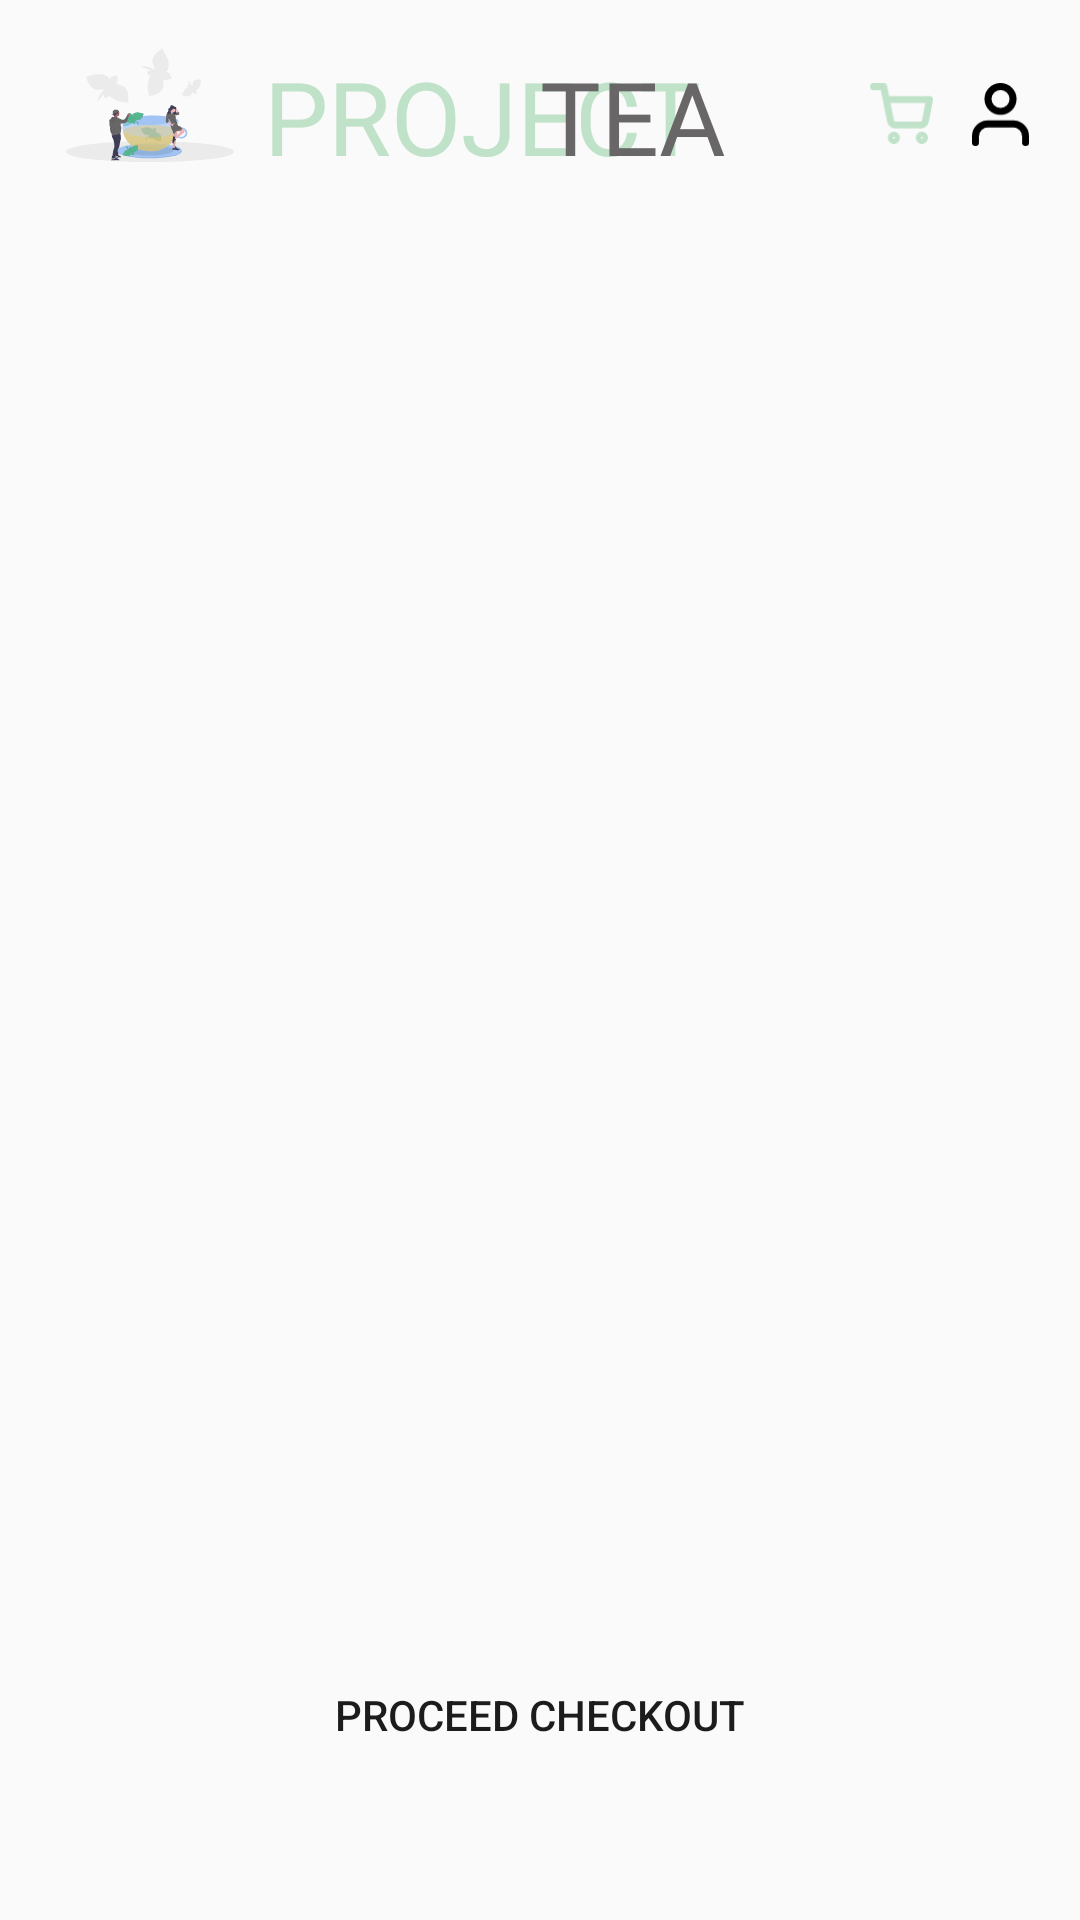

Icons on this 1080×1920 Android screen, each with the point to tap as (x,y):
cart: (901,113)
user: (1000,114)
